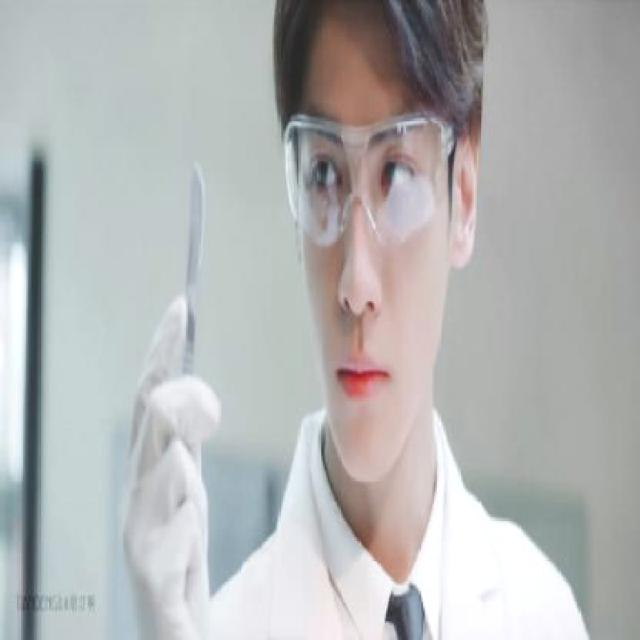face_nomask: (286, 85, 442, 486)
glasses: (274, 102, 454, 258)
hand_glove: (117, 294, 231, 640)
head_nohelmet: (229, 0, 500, 94)
person: (117, 4, 584, 640)
